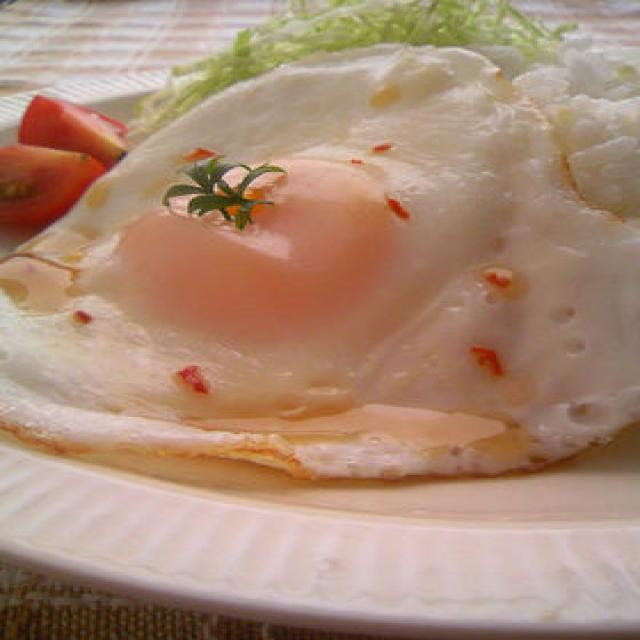鸡蛋料理: (0, 46, 640, 465)
